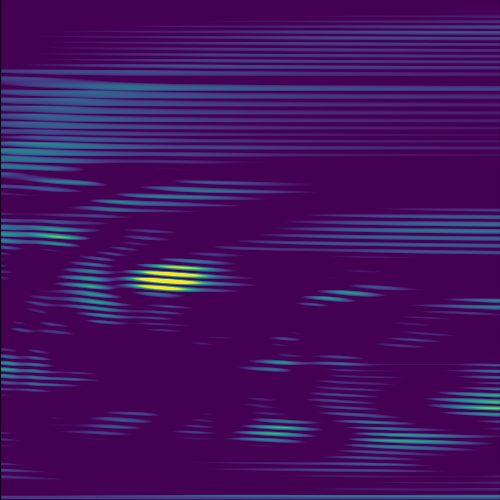semblance: (123, 260, 241, 297)
